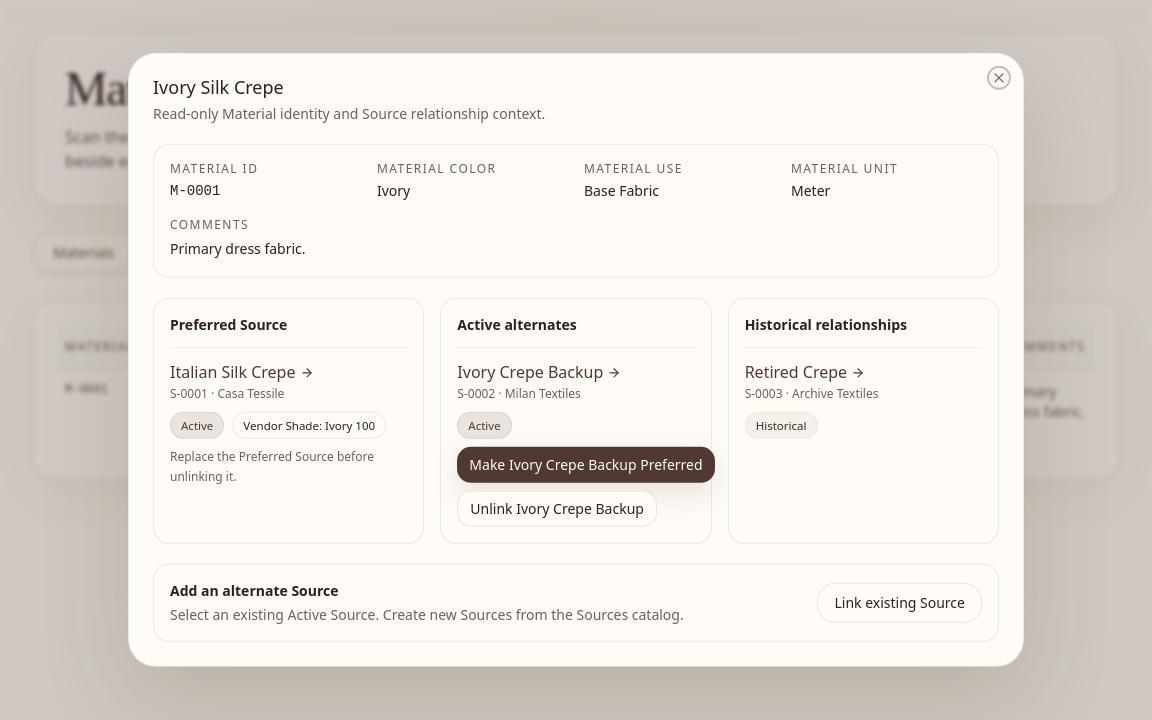
Test case: materials route › keeps the Dialog open and explains a unlink failure
This screenshot has width=1152, height=720.
Step 1. Click the button "Unlink Ivory Crepe Backup" → [557, 509], box [457,491,657,527]
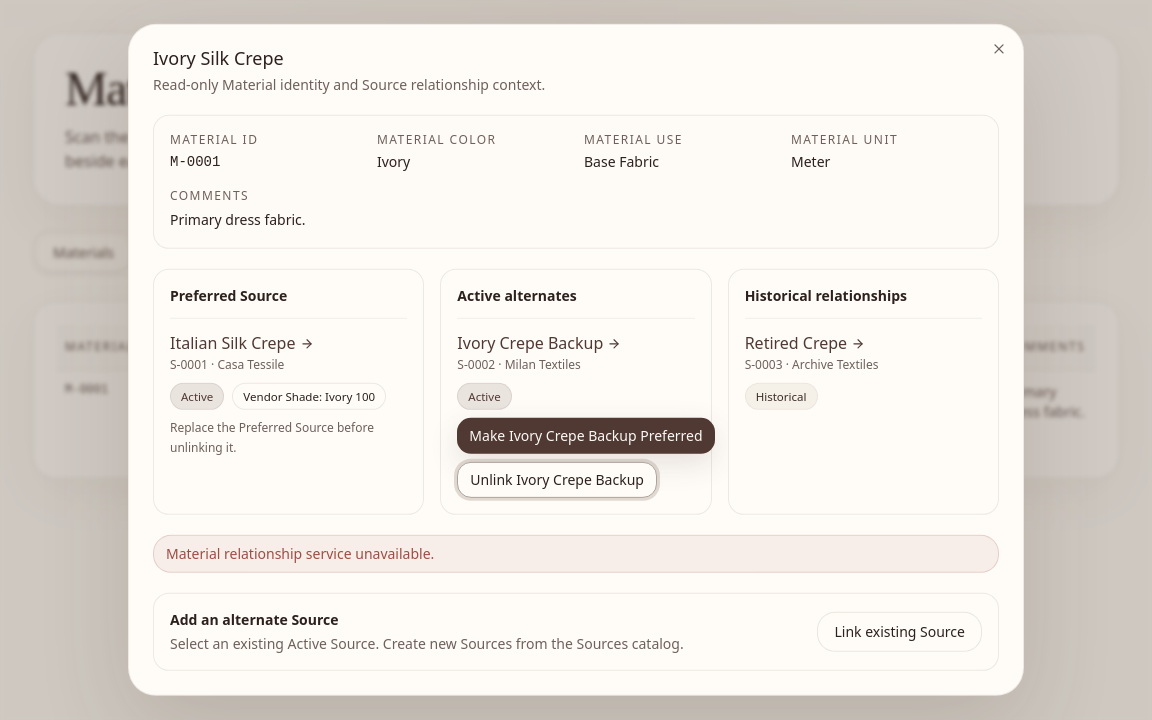
Check: the message reads "Material relationship service unavailable.", box [166,544,434,563]
